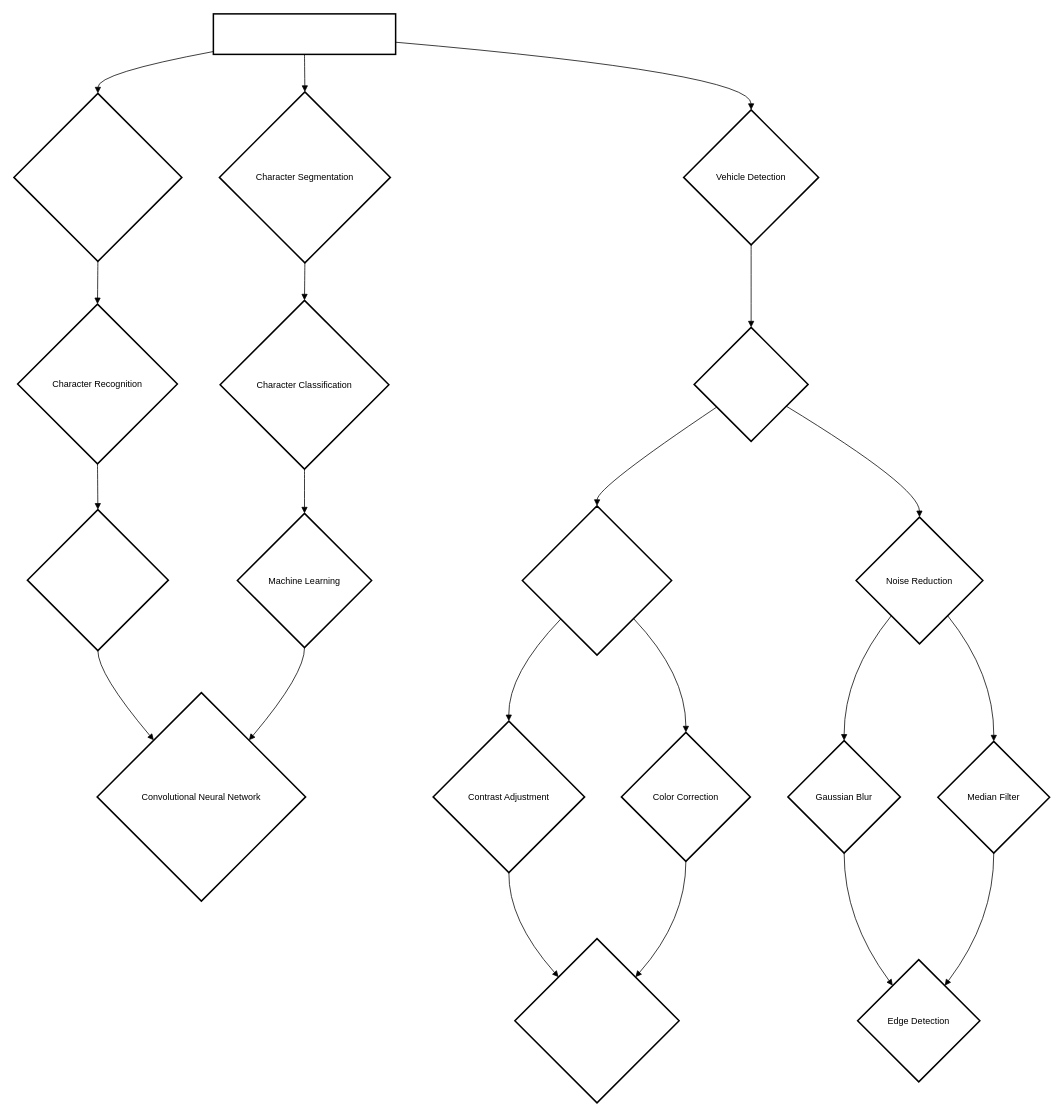
This 1063x1116 diagram has some shape labels left out. Each missing label, with the centre of its shape:
"Feature Extraction" belongs at [97,579].
"Histogram Equalization" belongs at [597,1020].
"Image Enhancement" belongs at [596,580].
"License Plate Detection" belongs at [97,177].
"License Plate Recognition" belongs at [304,34].
"Preprocessing" belongs at [750,384].
